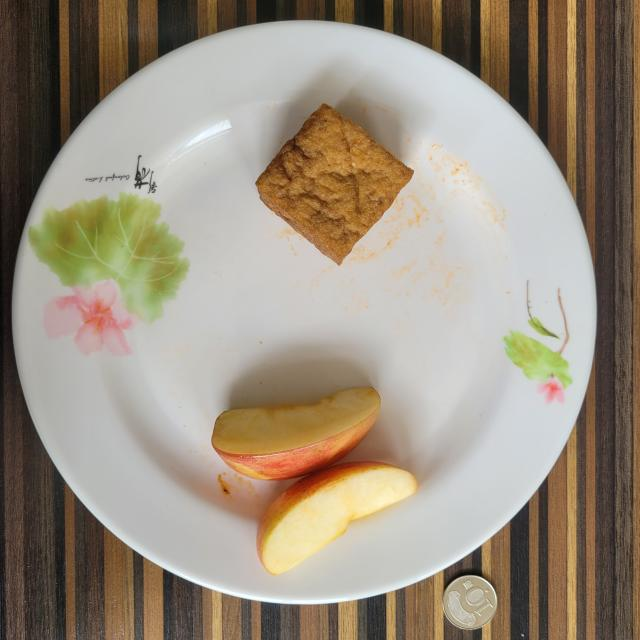apple -sliced-: (211, 388, 418, 575)
coin: (442, 575, 498, 630)
egg tofu: (256, 104, 412, 264)
